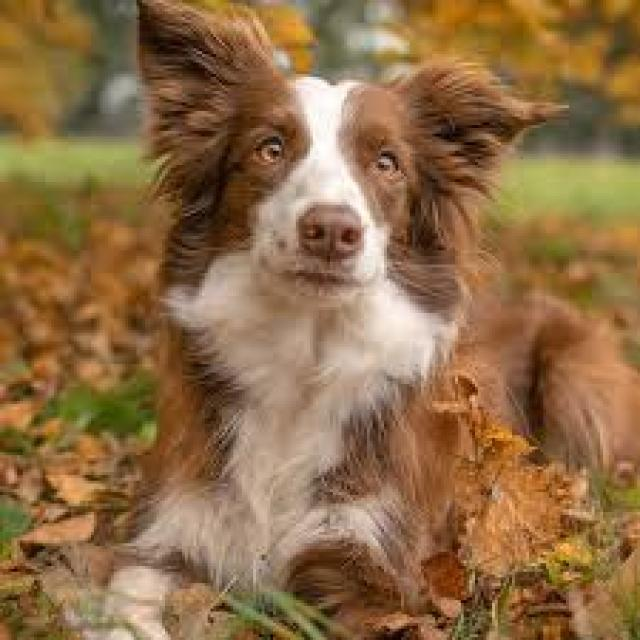BORDER_COLLIE: (98, 0, 640, 568)
